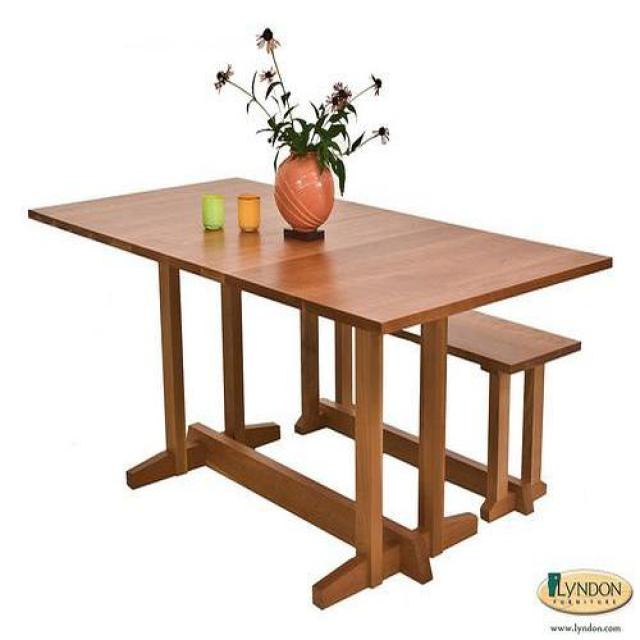table: (28, 179, 616, 612)
